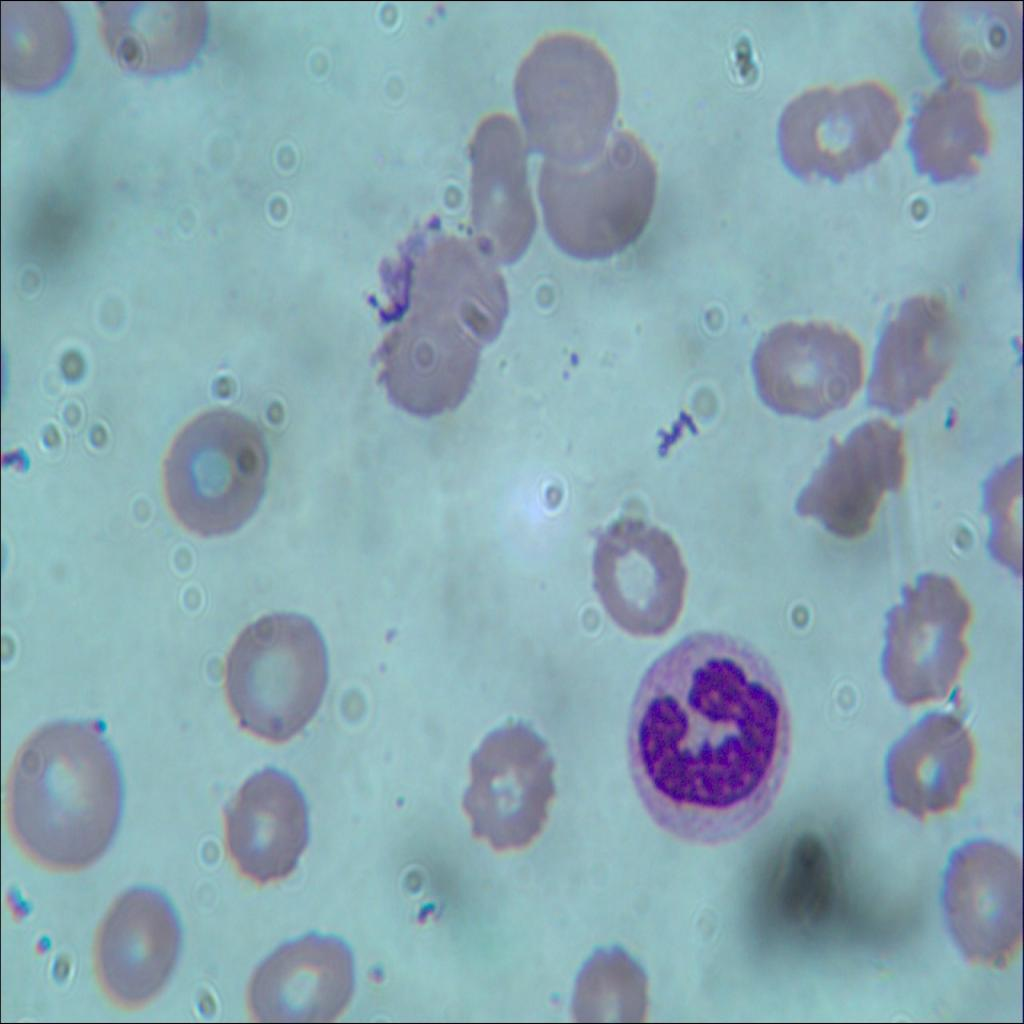Eritrosit: (6, 714, 128, 872), (764, 59, 898, 195), (542, 109, 655, 264), (444, 705, 561, 854), (516, 15, 624, 174), (156, 408, 278, 548), (395, 218, 504, 354), (862, 282, 972, 415), (222, 608, 332, 741), (459, 105, 546, 272), (882, 561, 975, 716), (591, 509, 691, 652), (799, 412, 904, 545), (82, 882, 184, 1008), (748, 307, 863, 418), (242, 915, 359, 1023), (373, 319, 481, 424), (226, 754, 306, 891), (890, 704, 981, 821), (911, 81, 1001, 194), (943, 842, 1023, 965), (912, 0, 1010, 97), (96, 0, 206, 82), (0, 0, 78, 98), (578, 944, 654, 1023)
Neutrofil: (620, 627, 806, 865)
Platelet: (0, 878, 38, 931), (82, 711, 116, 751), (366, 950, 394, 996), (384, 781, 406, 821), (564, 338, 586, 375), (32, 924, 54, 956), (421, 0, 444, 21)
